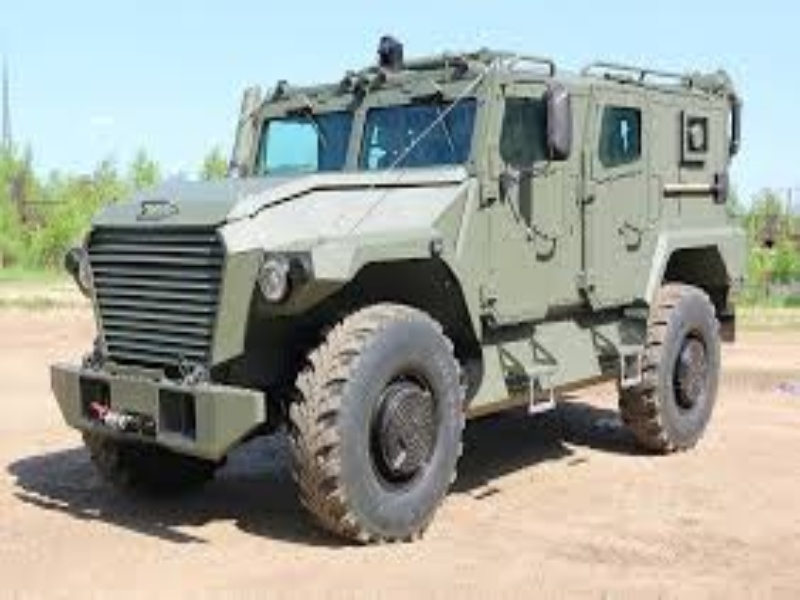jeep: (42, 31, 746, 555)
